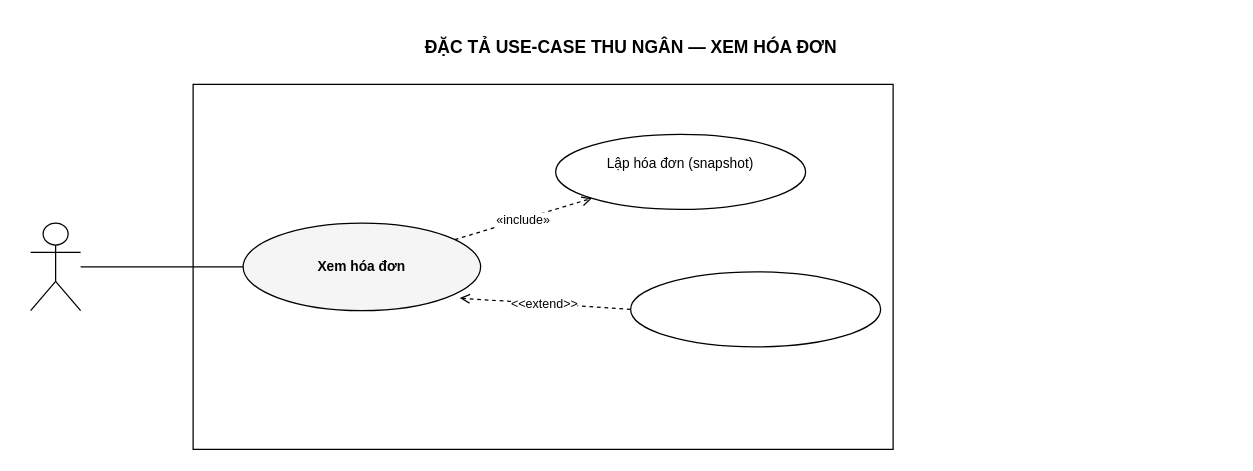
Some shapes in this 1253 by 471 pixel diagram are drawn without their labels. Here are the shapes that lost their labels. From the top down, the centre of each, then its label:
[55,266]: Thu ngân
[755,309]: Xem chi tiết hoá đơn
